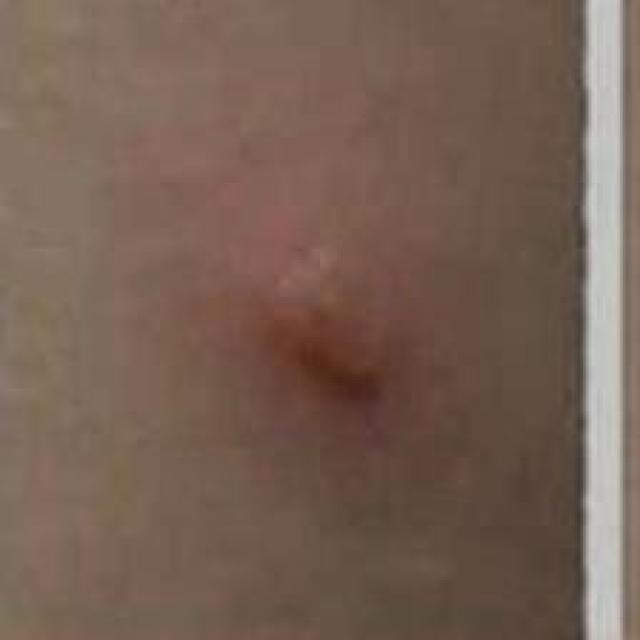others: (22, 6, 564, 563)
